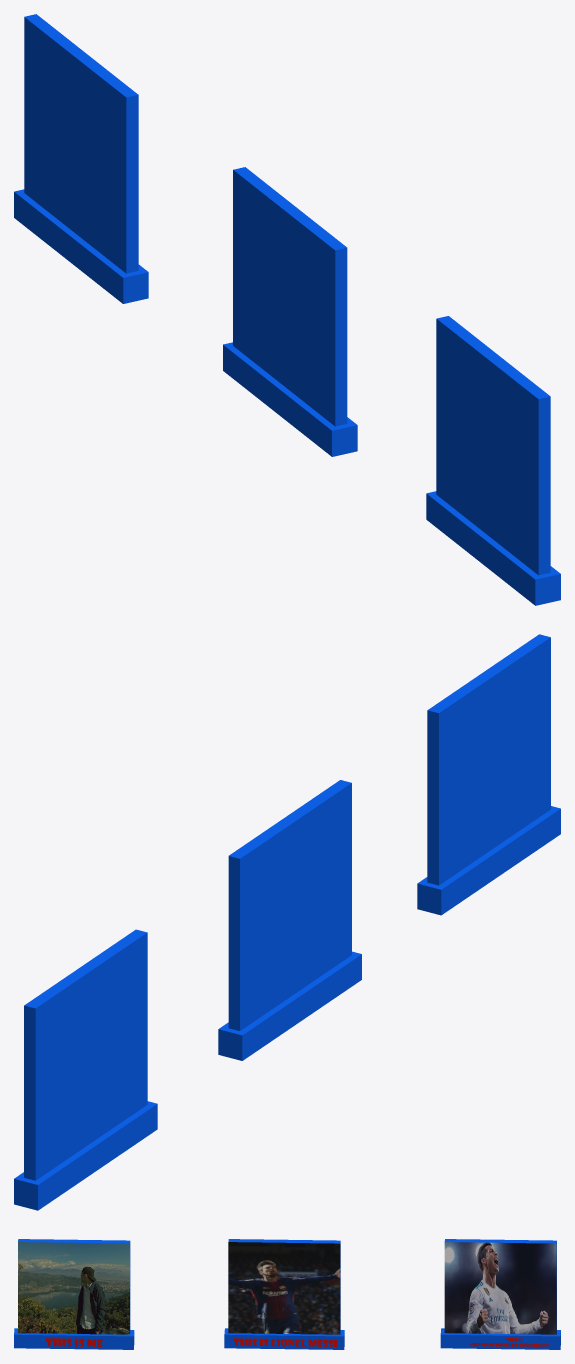
The model's file is div1.glb.
3 renders of one model, top to bottom at view 1: azimuth 30°, elevation 25°; view 2: azimuth 150°, elevation 25°; view 3: azimuth 270°, elevation 25°, orthographic. The views are drawn at different scales.
Parts seen in each view (by area): view 1: Cube, Cube.001, Cube.002; view 2: Cube.001, Cube.002, Cube; view 3: Cube.001, Cube, Cube.002, Text.002, Text, Text.001.
Part boxes in pixels (x1,y1,x2,y2): Cube: [426, 316, 560, 605]; Cube.001: [14, 14, 148, 303]; Cube.002: [223, 167, 357, 456]; Cube.001: [14, 929, 157, 1210]; Cube.002: [218, 780, 361, 1060]; Cube: [417, 634, 560, 915]; Cube.001: [440, 1239, 560, 1349]; Cube: [14, 1239, 134, 1349]; Cube.002: [224, 1239, 344, 1349]; Text.002: [233, 1338, 337, 1346]; Text: [45, 1338, 102, 1346]; Text.001: [470, 1338, 549, 1347].
Bounding box in the file's own units: 4.07 × 23.37 × 111.
5 materials, 3 textured.
